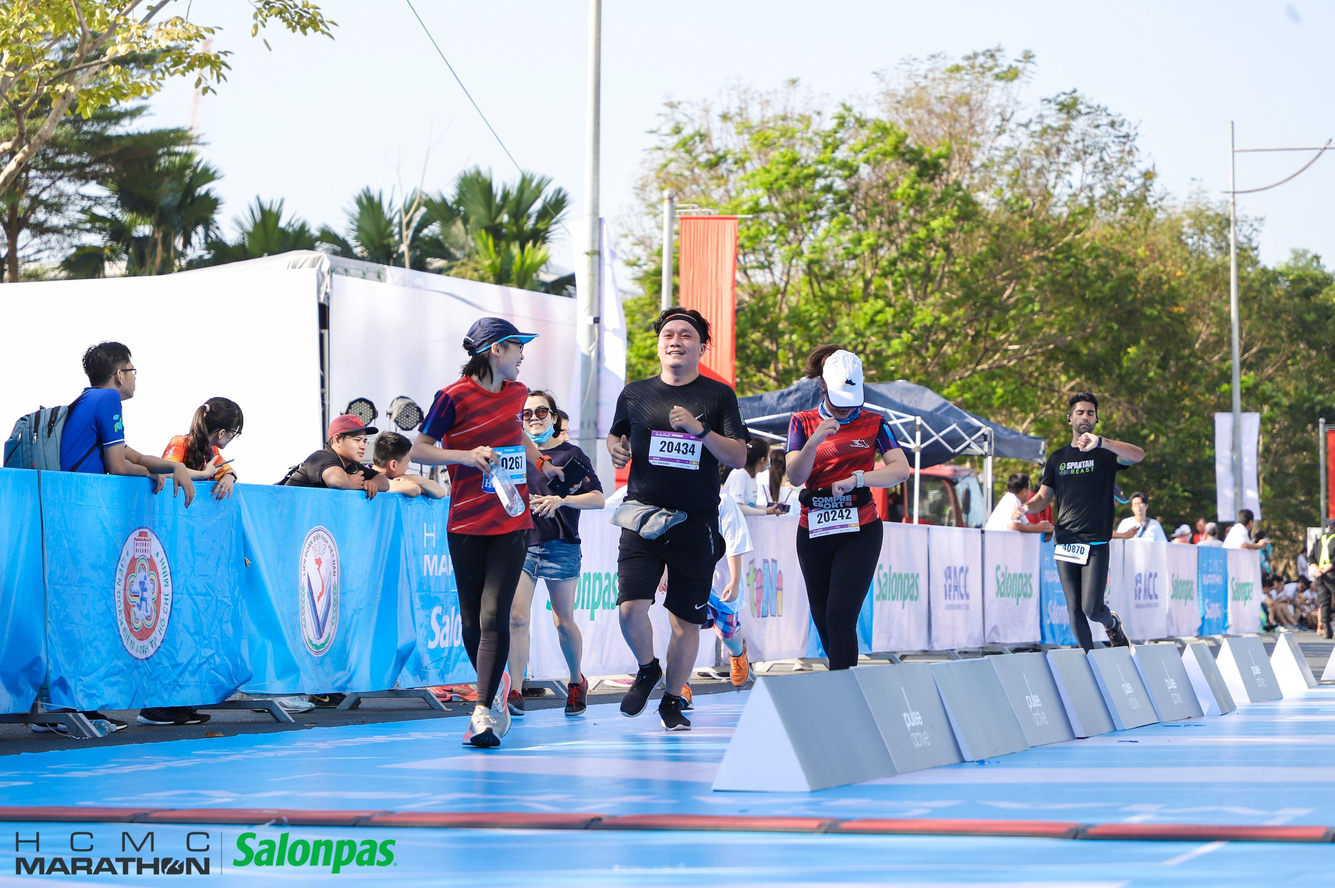bib: (484, 444, 530, 494), (648, 429, 700, 473), (804, 503, 859, 538), (1052, 534, 1086, 567)
